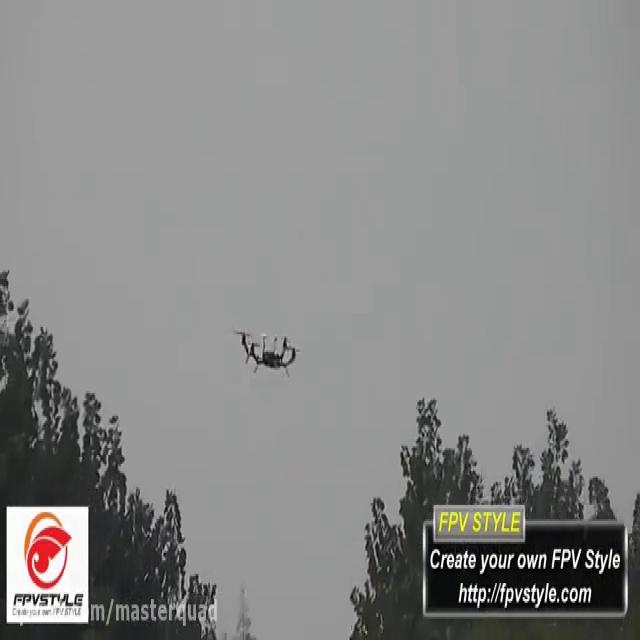drone: (228, 322, 305, 380)
